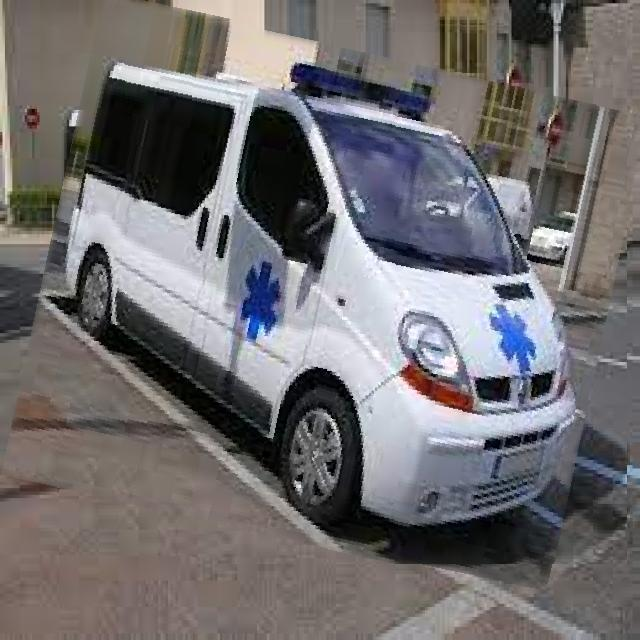ambulance: (23, 18, 627, 564)
